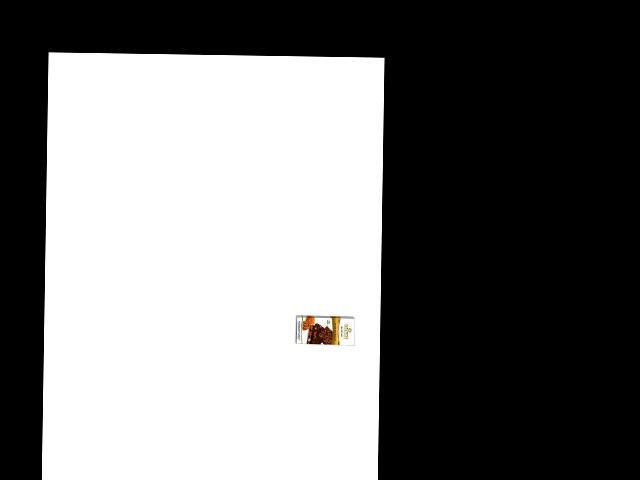chocolate: (293, 313, 357, 346)
